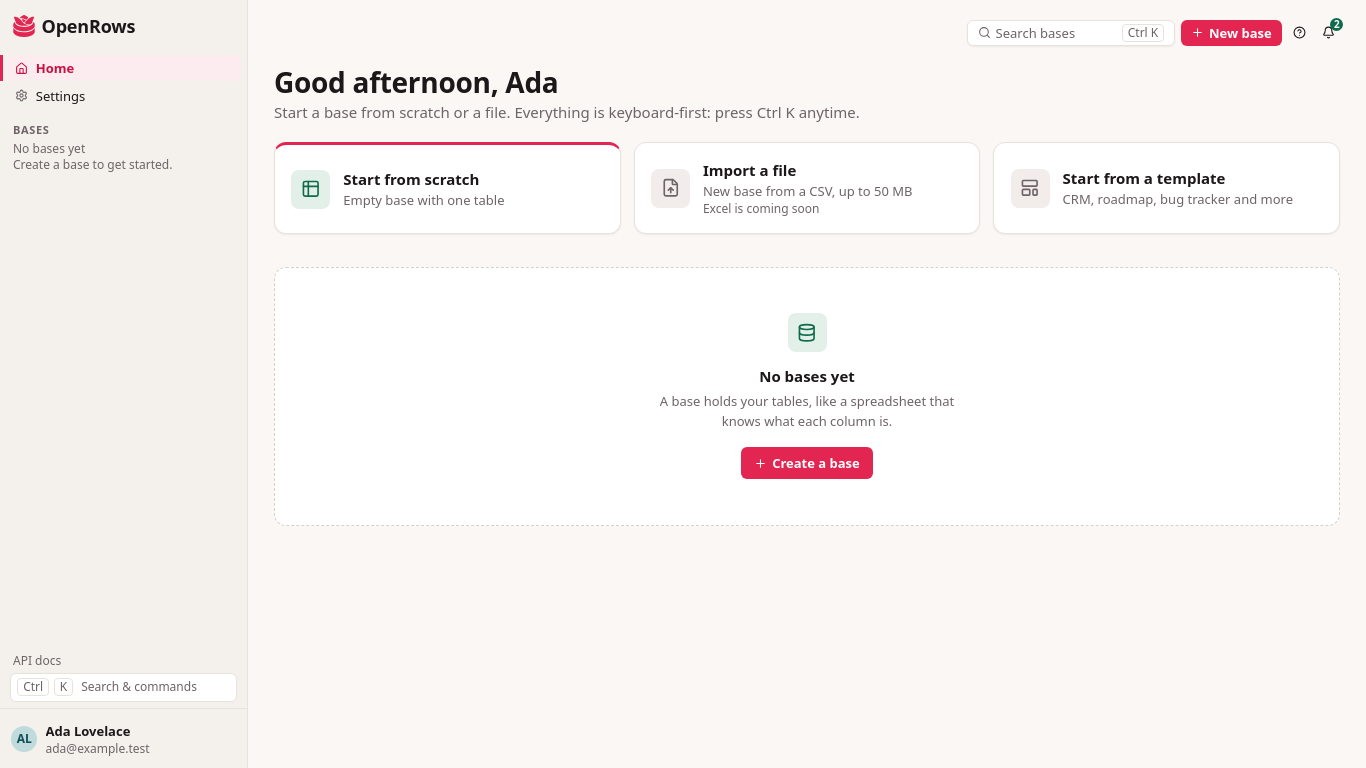
notification bell (#93) › shows the unread count, lists the inbox, marks all read
expect the text with test id "notification-count" reads "2": met, box [1334, 17, 1340, 31]
Click the button named "Notifications, 2 unread": {"x": 1329, "y": 32} [1317, 21, 1340, 44]
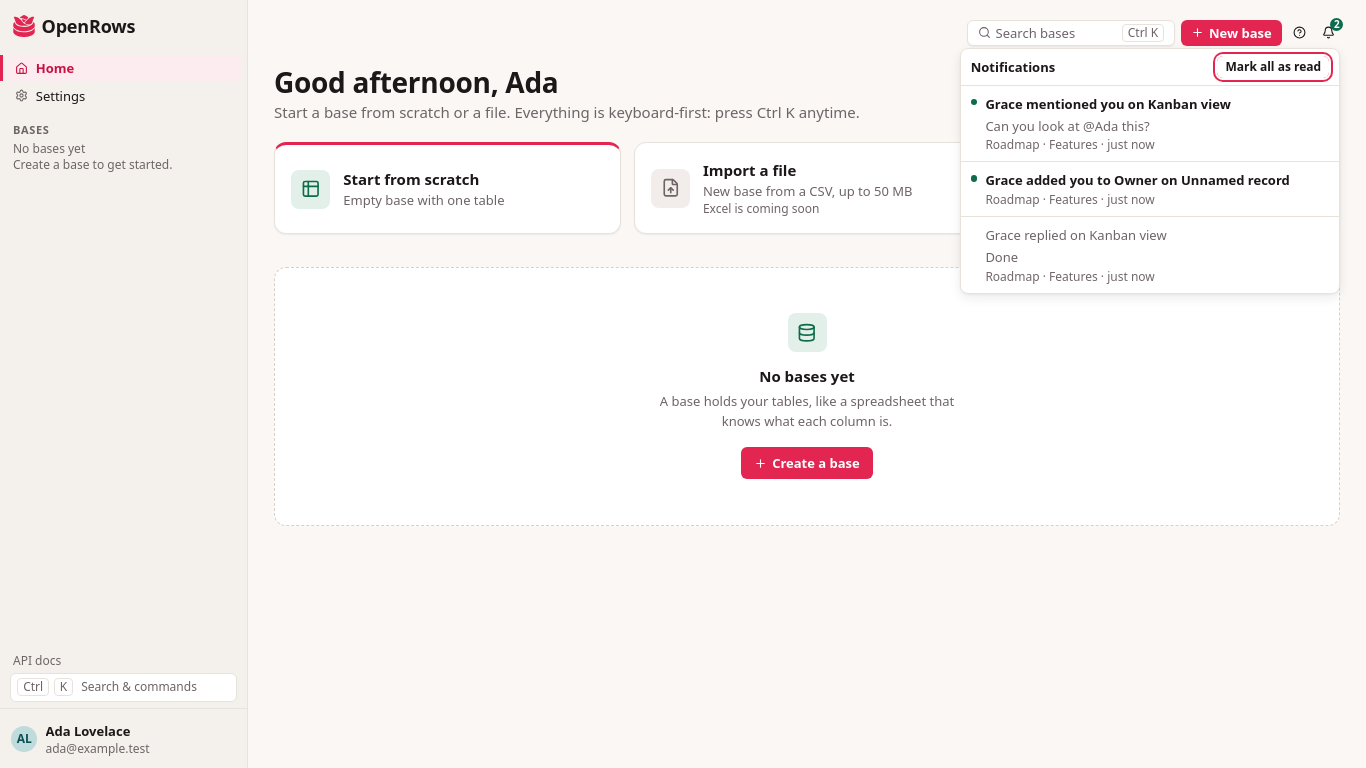
expect the text "Grace mentioned you on Kanban view" is shown: met, box [985, 95, 1231, 113]
expect the text "Can you look at @Ada this?" is shown: met, box [985, 116, 1150, 134]
expect the text "Grace added you to Owner on Unnamed record" is shown: met, box [985, 170, 1329, 190]
Click the button "Mark all as read": {"x": 1273, "y": 67} [1217, 56, 1329, 78]
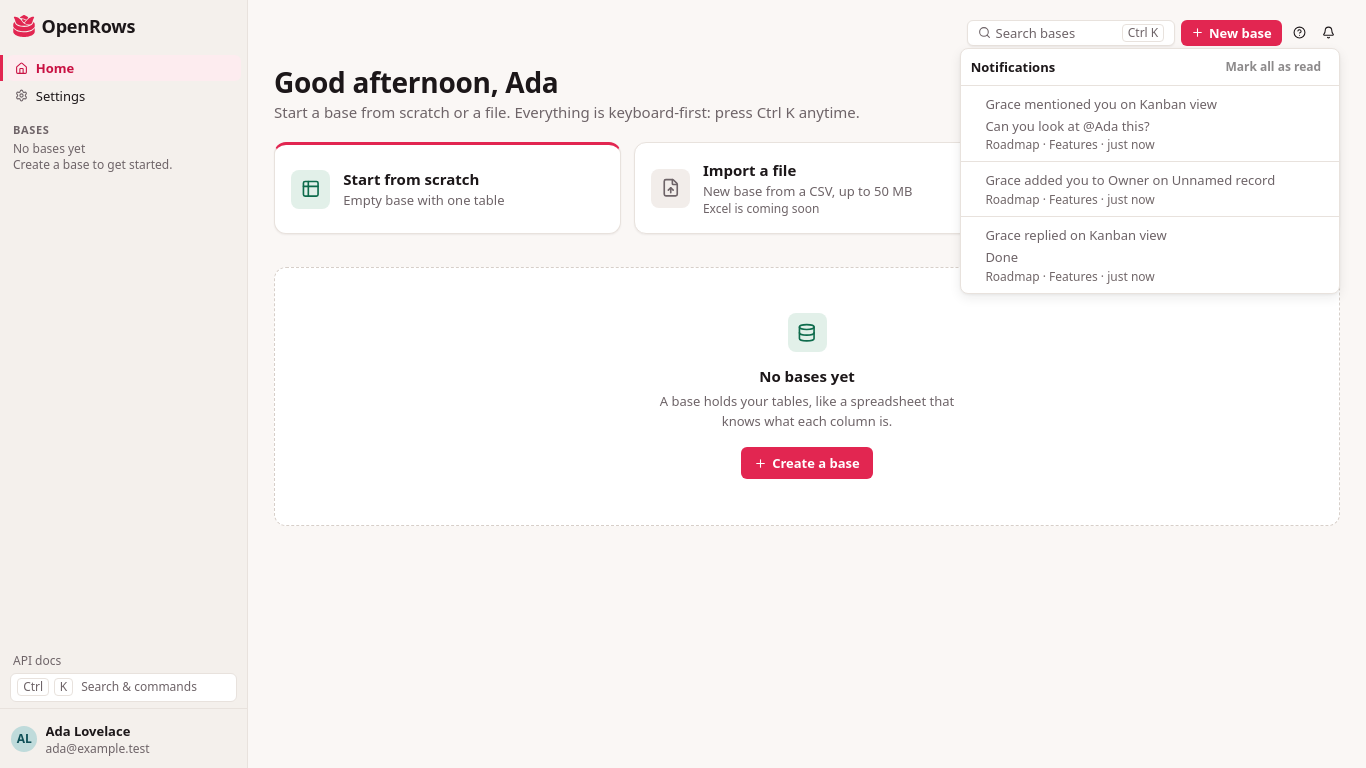
expect the button named "Notifications" is shown: met, box [1317, 21, 1340, 44]
expect the text with test id "notification-count" is gone: met
